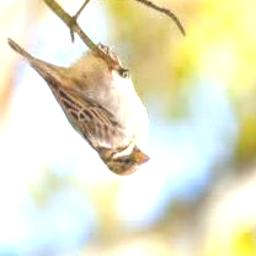Sparrow: (7, 35, 151, 178)
